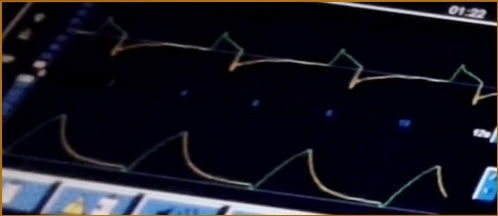Flow: (76, 11, 496, 104)
Leakage Volume: (2, 110, 447, 209)
